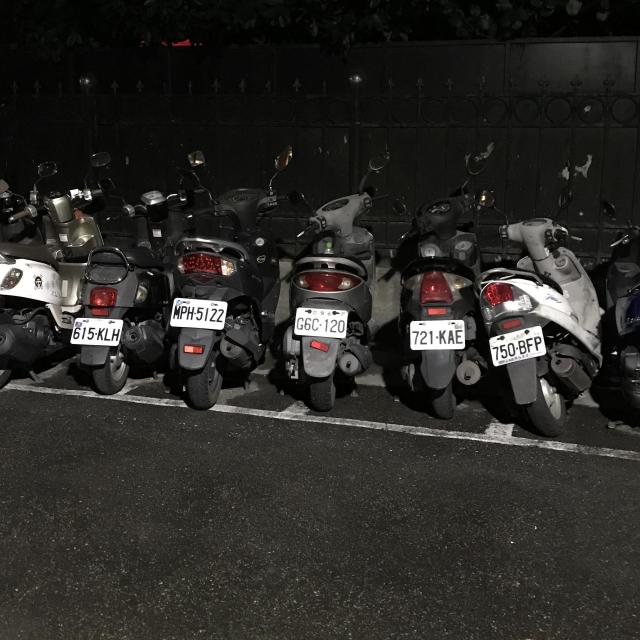W: (487, 322, 549, 366), (168, 294, 228, 331), (408, 316, 468, 351), (68, 312, 126, 348), (292, 304, 350, 339)
